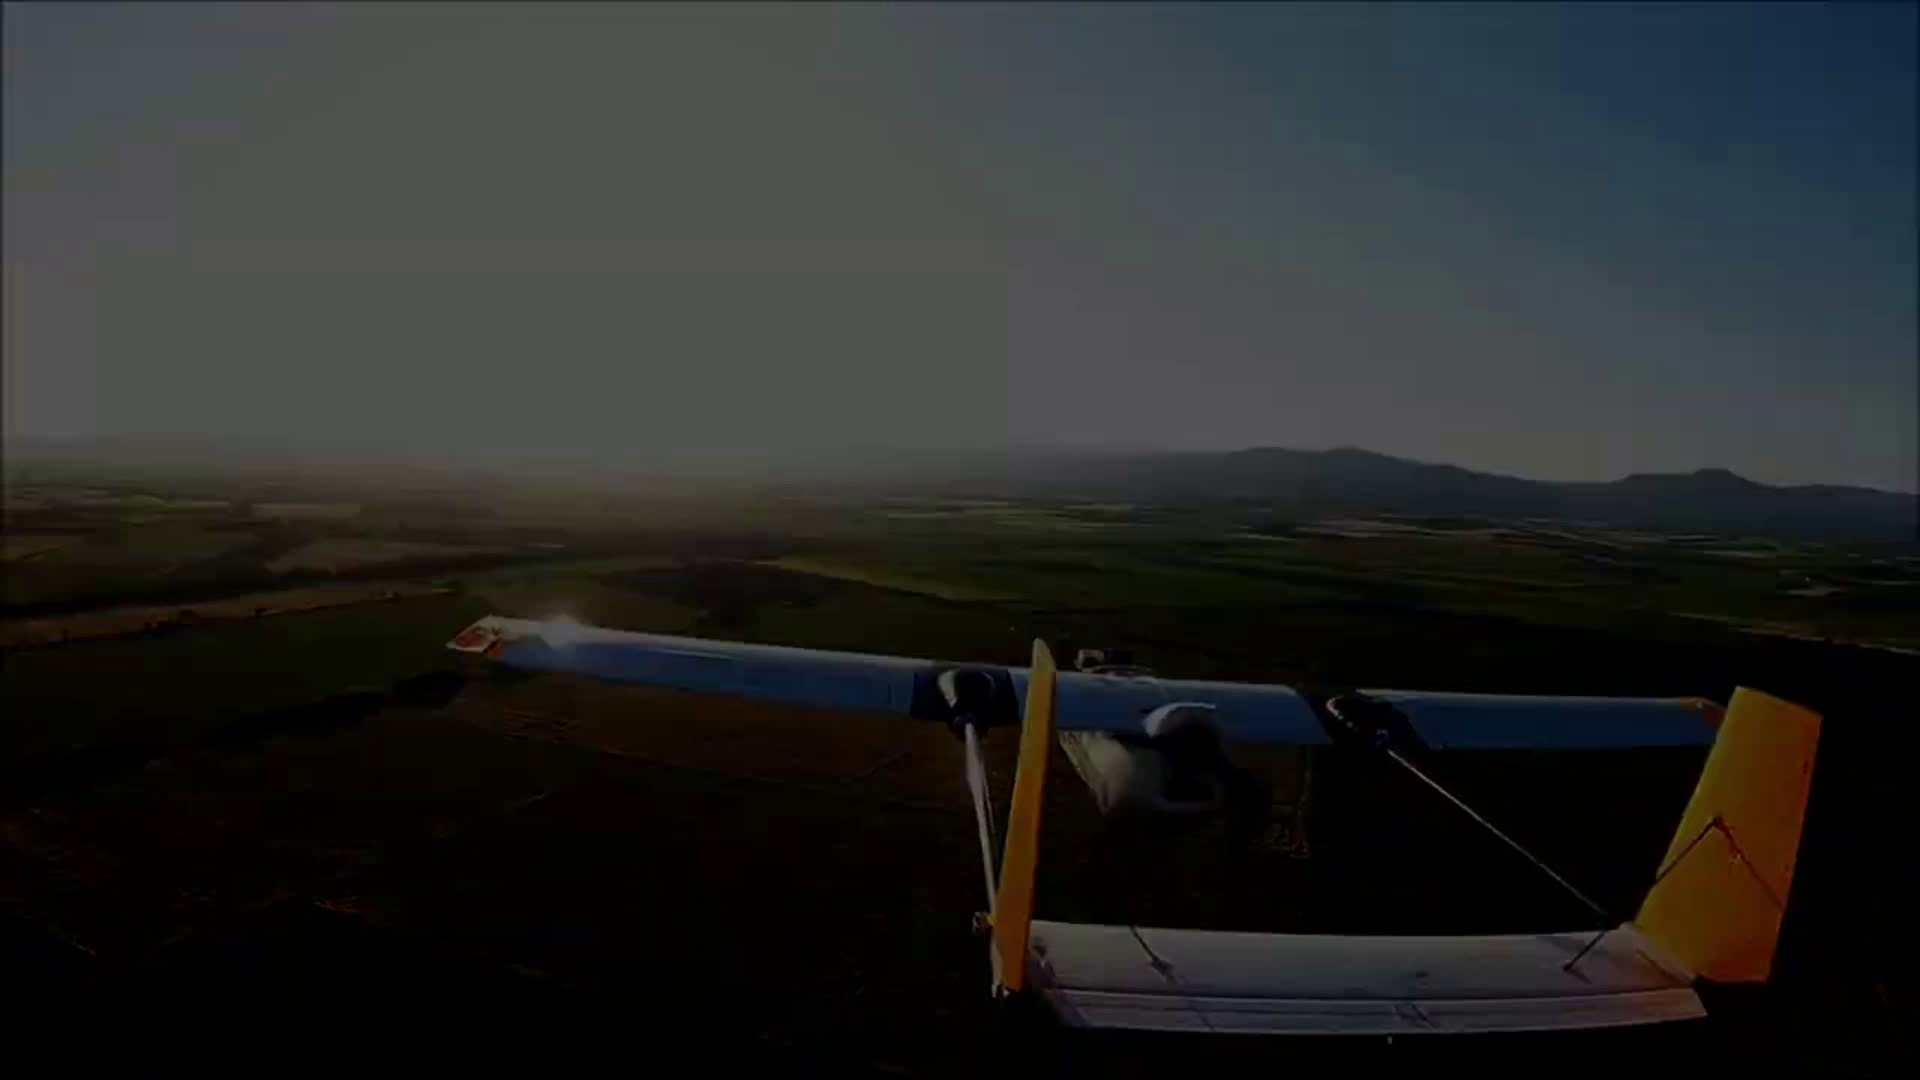airplane: (446, 617, 1858, 1044)
